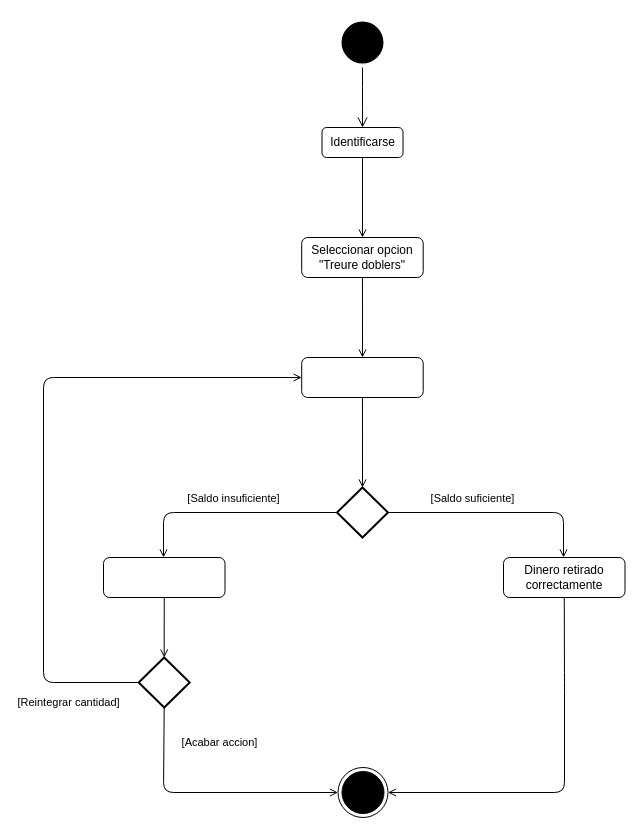
This 643x835 diagram has some shape labels left out. The centre of each missing label's shape, as x and y in pixels:
"Error: No se puede retirar esa cantidad." goes at point (163, 577).
"Insertar cantidad a treure" goes at point (362, 377).
